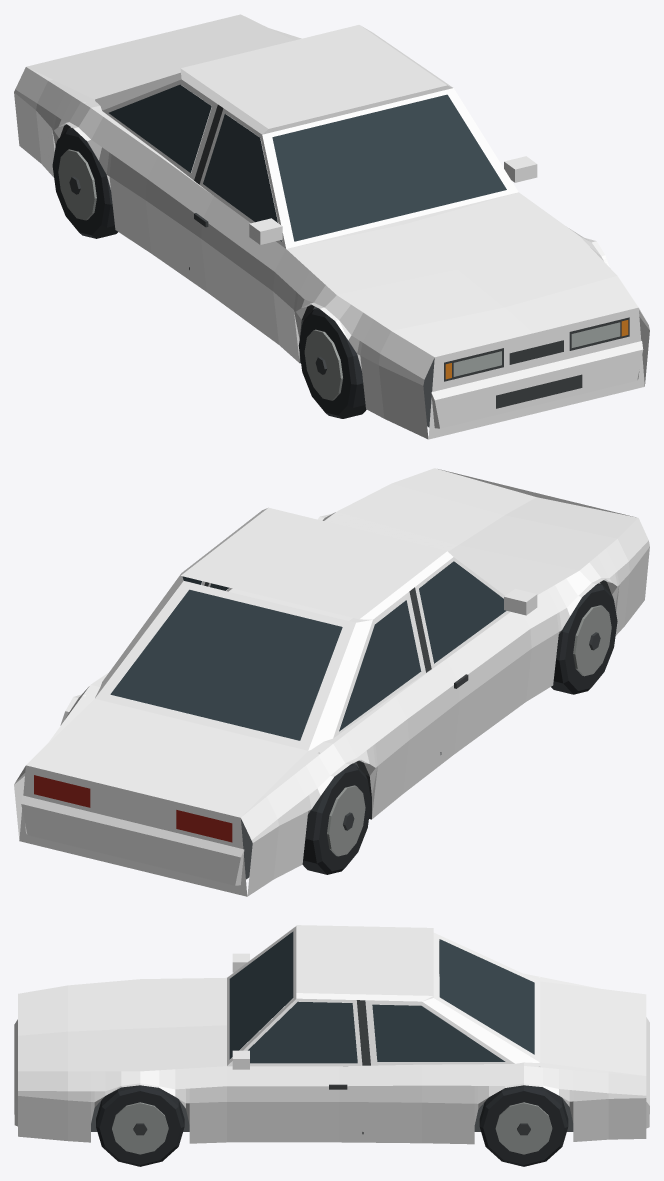
The model's file is hayase_soryu.glb.
3 views of the same model, one above another, from view 1: azimuth 30°, elevation 25°; view 2: azimuth 150°, elevation 25°; view 3: azimuth 270°, elevation 25° (orthographic). The views are drawn at different scales.
Parts seen in each view (by area): view 1: hayase_soryu; view 2: hayase_soryu; view 3: hayase_soryu.
Boxes of the visible parts, <box> form: hayase_soryu: <box>14,14,649,439</box>; hayase_soryu: <box>14,468,649,896</box>; hayase_soryu: <box>14,925,649,1166</box>.
Bounding box in the file's own units: 1.74 × 1.22 × 4.44.
8 materials, 1 textured.
